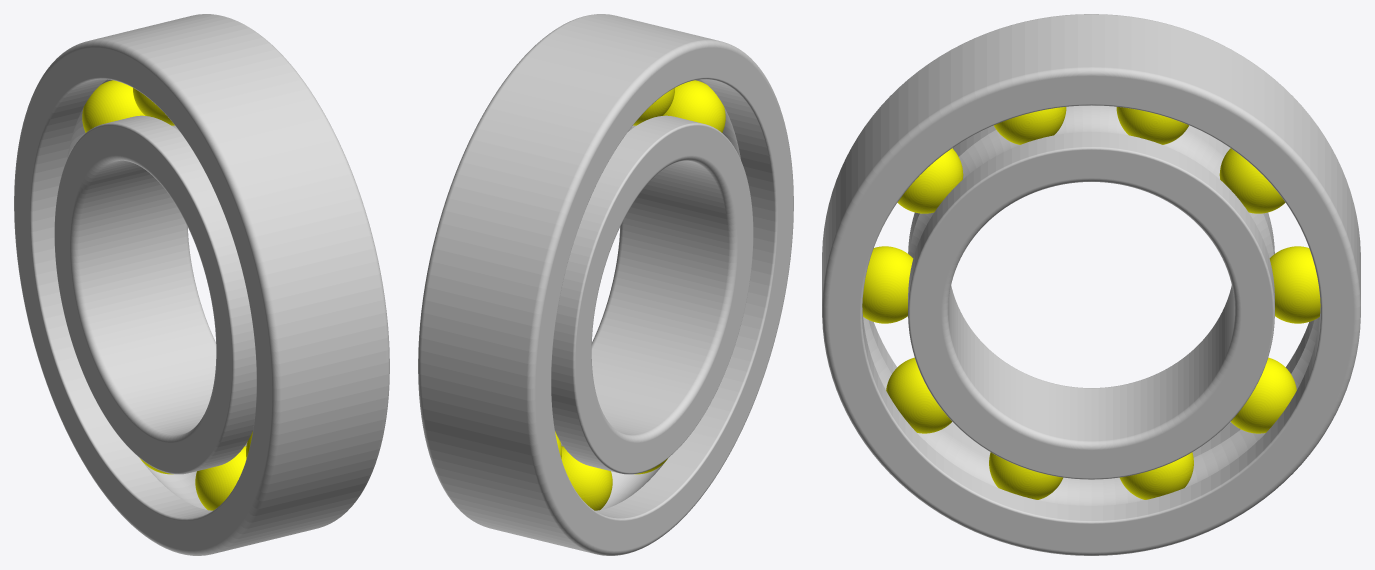
File: model_web.glb
3 views of the same model, side by side, from view 1: azimuth 30°, elevation 25°; view 2: azimuth 150°, elevation 25°; view 3: azimuth 270°, elevation 25° (orthographic). The views are drawn at different scales.
Parts seen in each view (by area): view 1: Node1, Node2; view 2: Node1, Node2; view 3: Node1, Node2.
Part boxes in pixels (box(x1,y1,x2,y2)): Node1: box(14, 14, 389, 555); Node2: box(82, 80, 252, 510); Node1: box(418, 14, 793, 555); Node2: box(555, 80, 725, 510); Node1: box(822, 14, 1360, 555); Node2: box(862, 107, 1320, 499).
Size of the model in its own units: 12 by 47 by 46.99.
